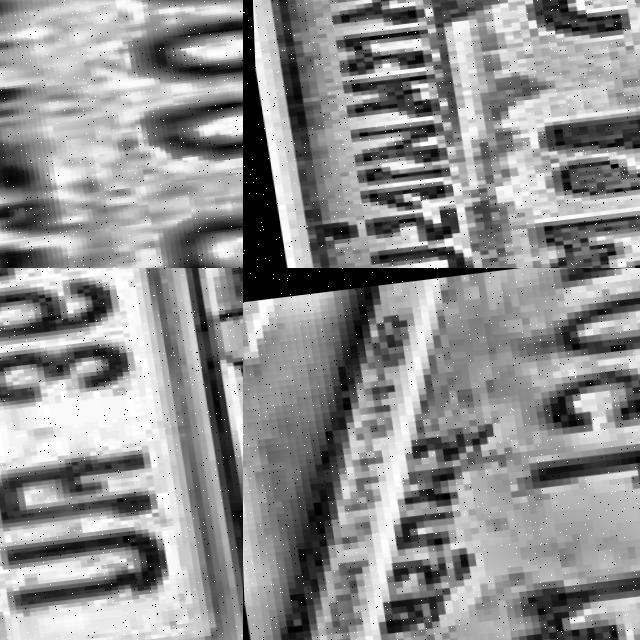license-plate: (243, 268, 640, 640), (243, 0, 640, 268), (0, 268, 243, 640), (0, 0, 243, 268)
